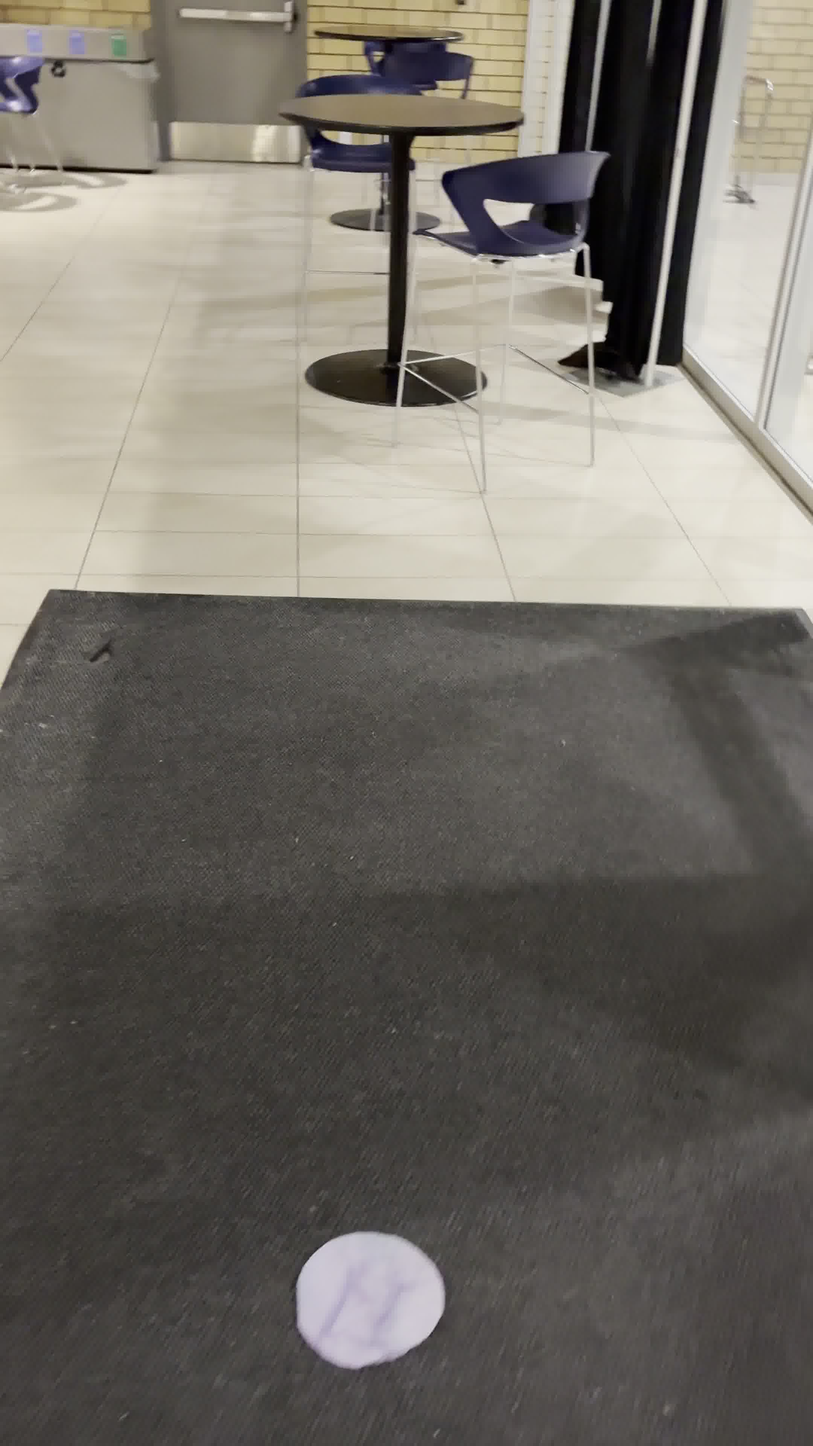Target: (293, 1221, 450, 1376)
